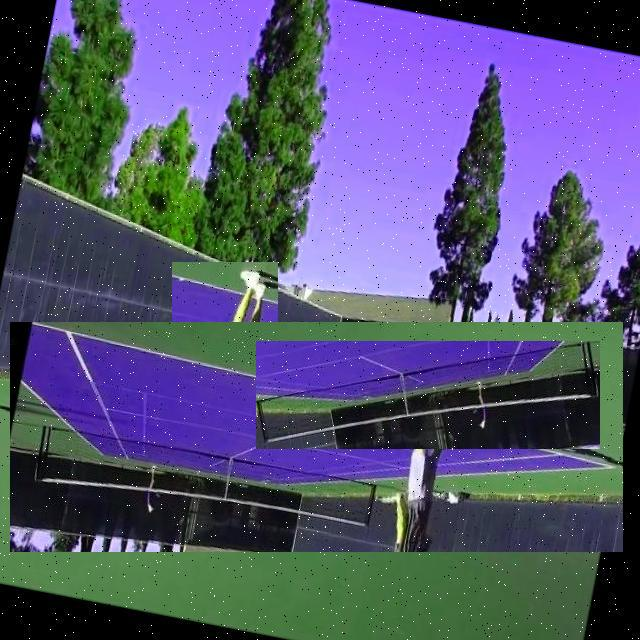court: (10, 322, 623, 552)
net: (256, 341, 600, 449)
player: (172, 262, 278, 487)
